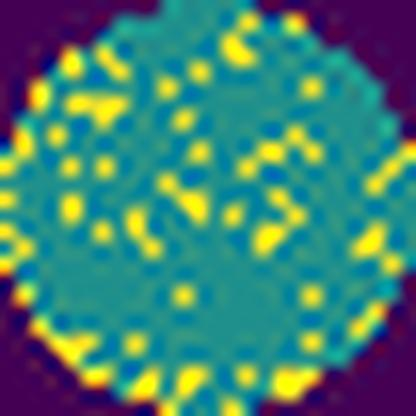Loc: (10, 7, 414, 407)
